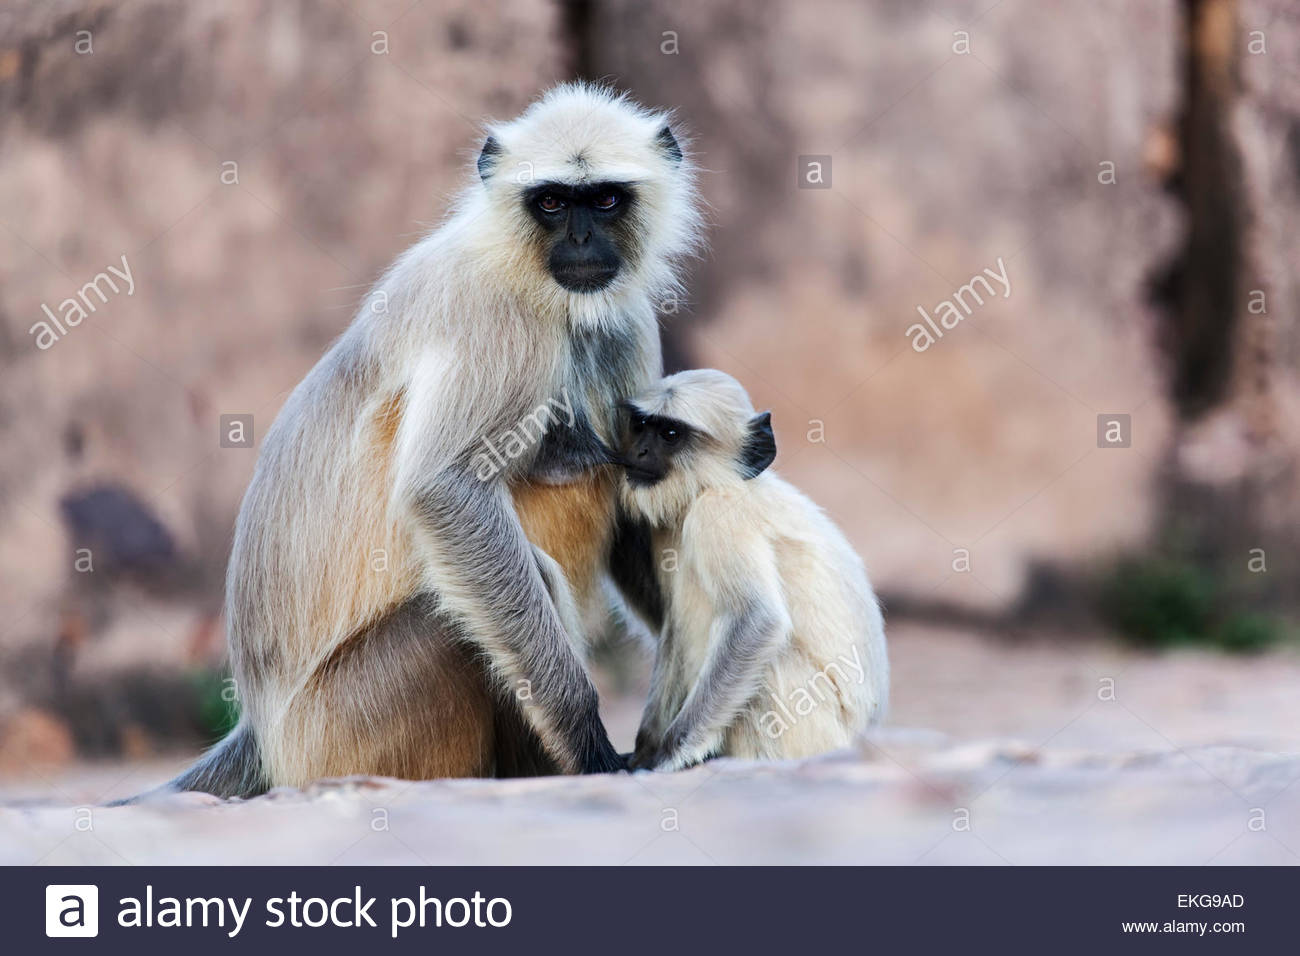langur: (167, 64, 712, 828), (620, 360, 902, 777)
